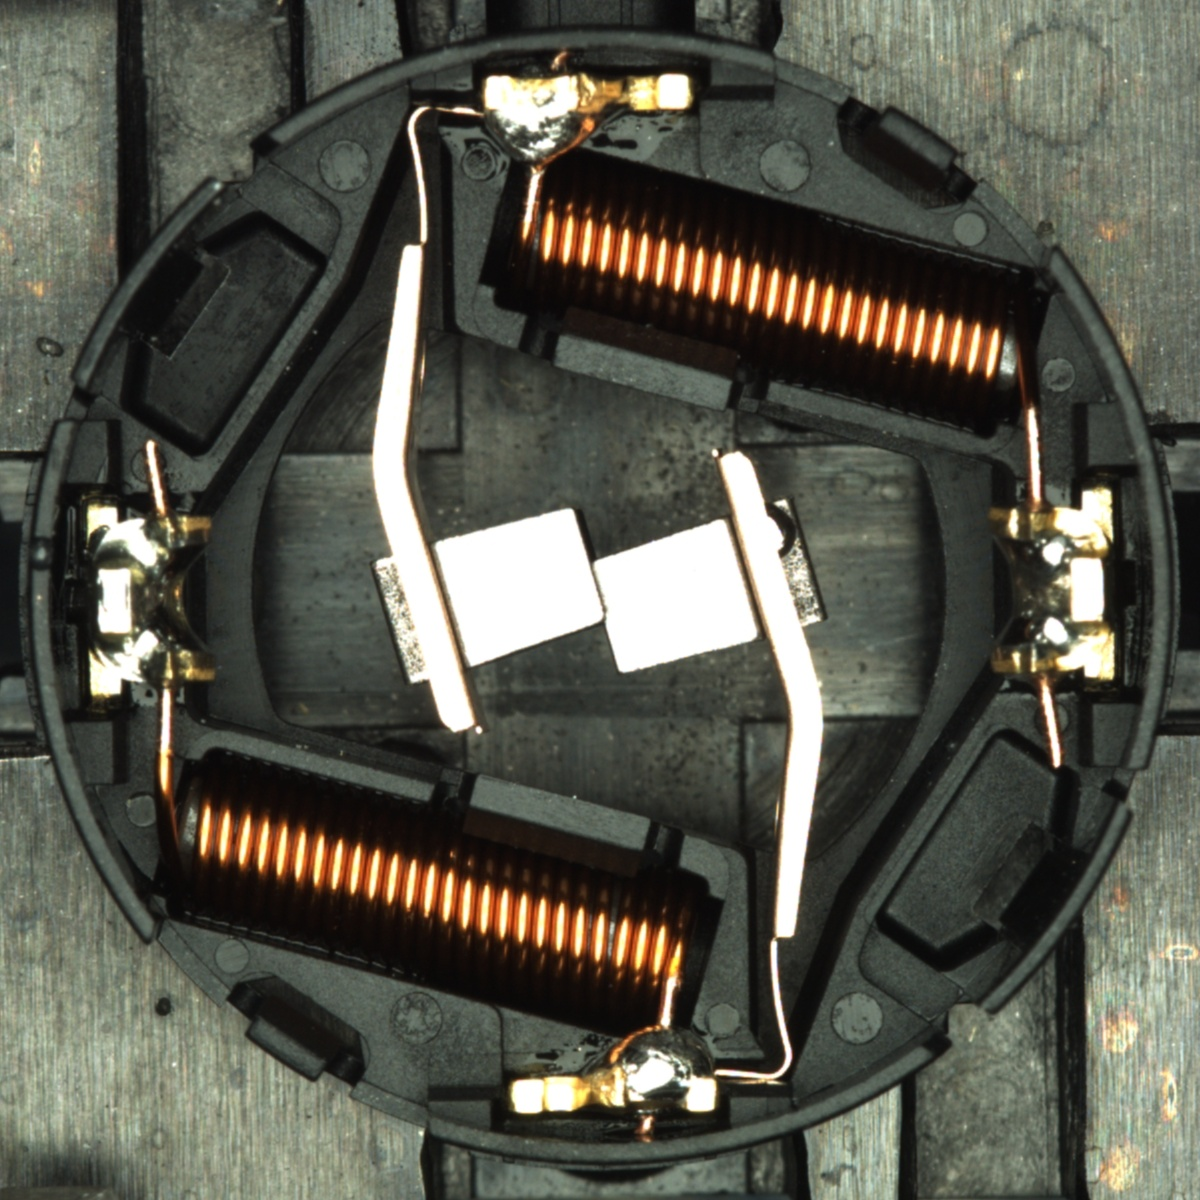1: (258, 55, 487, 279), (716, 953, 945, 1177)
2: (716, 55, 945, 279), (258, 953, 487, 1177)
3: (29, 279, 258, 503), (945, 729, 1175, 953)
4: (258, 279, 487, 503), (716, 729, 945, 953)
5: (487, 167, 716, 391), (487, 841, 716, 1065)
6: (716, 279, 945, 503), (258, 729, 487, 953)
7: (945, 279, 1175, 503), (29, 729, 258, 953)
chau_dien: (81, 498, 221, 699), (980, 488, 1121, 686)
hat_chi: (763, 504, 797, 557)
tay_choi: (480, 71, 697, 171), (508, 1022, 721, 1118)
thanh_de: (954, 787, 1140, 1030), (59, 164, 243, 403)
